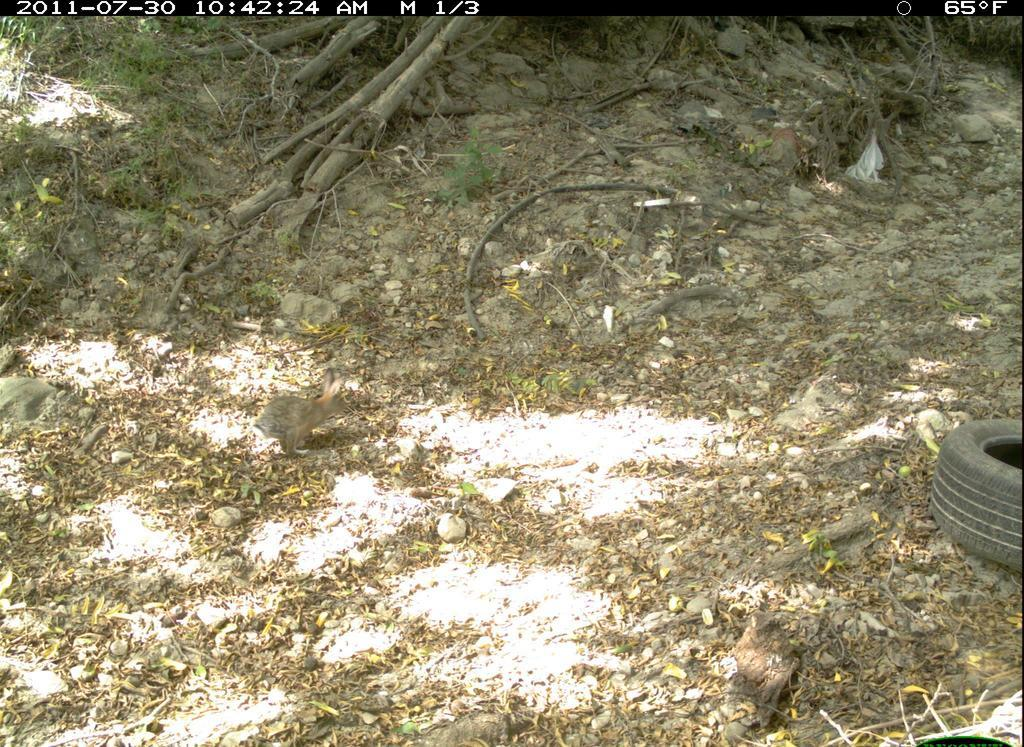rabbit: (253, 366, 353, 462)
